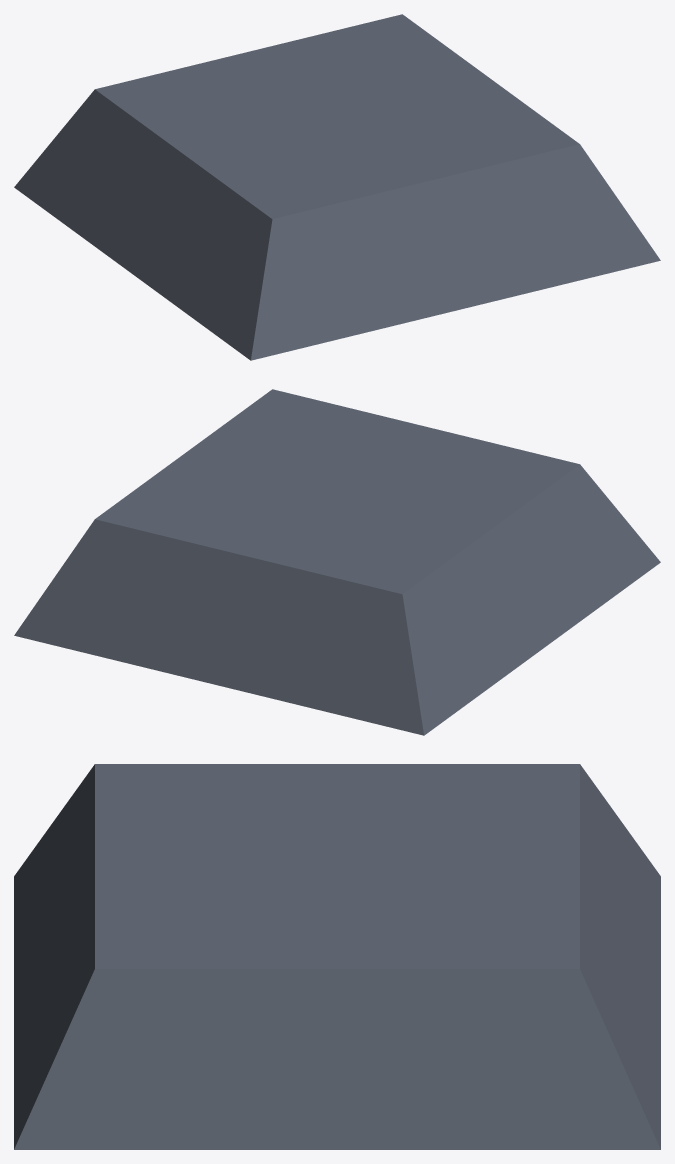
Rendered from soul_reaper.gltf.
The picture shows the model from 3 angles, top to bottom: view 1: azimuth 30°, elevation 25°; view 2: azimuth 150°, elevation 25°; view 3: azimuth 270°, elevation 25°; orthographic projection. The views are drawn at different scales.
Visible parts, largest first — view 1: Soul Reaper Body; view 2: Soul Reaper Body; view 3: Soul Reaper Body.
Boxes of the visible parts, x1,y1,x2,y2 form: Soul Reaper Body: (14,14,660,360); Soul Reaper Body: (14,389,660,735); Soul Reaper Body: (14,764,660,1149).
Size of the model in its own units: 2 by 0.5 by 2.
